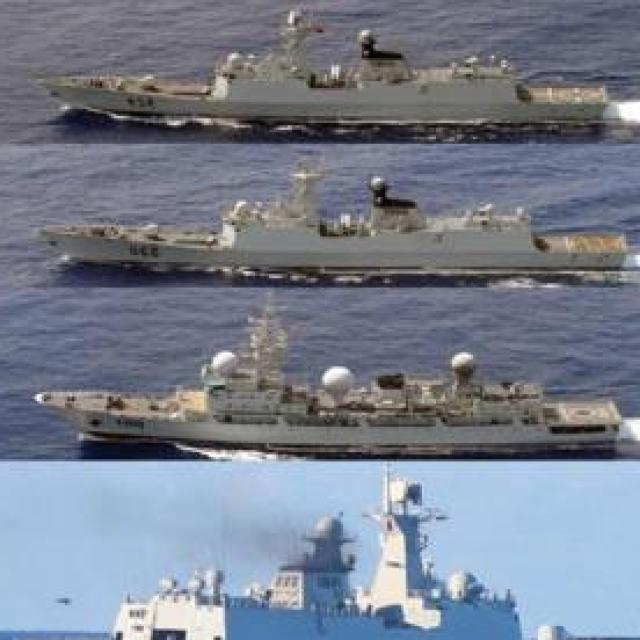navalvessels: (7, 489, 640, 640), (32, 318, 640, 452), (47, 19, 617, 144), (49, 166, 640, 285)
